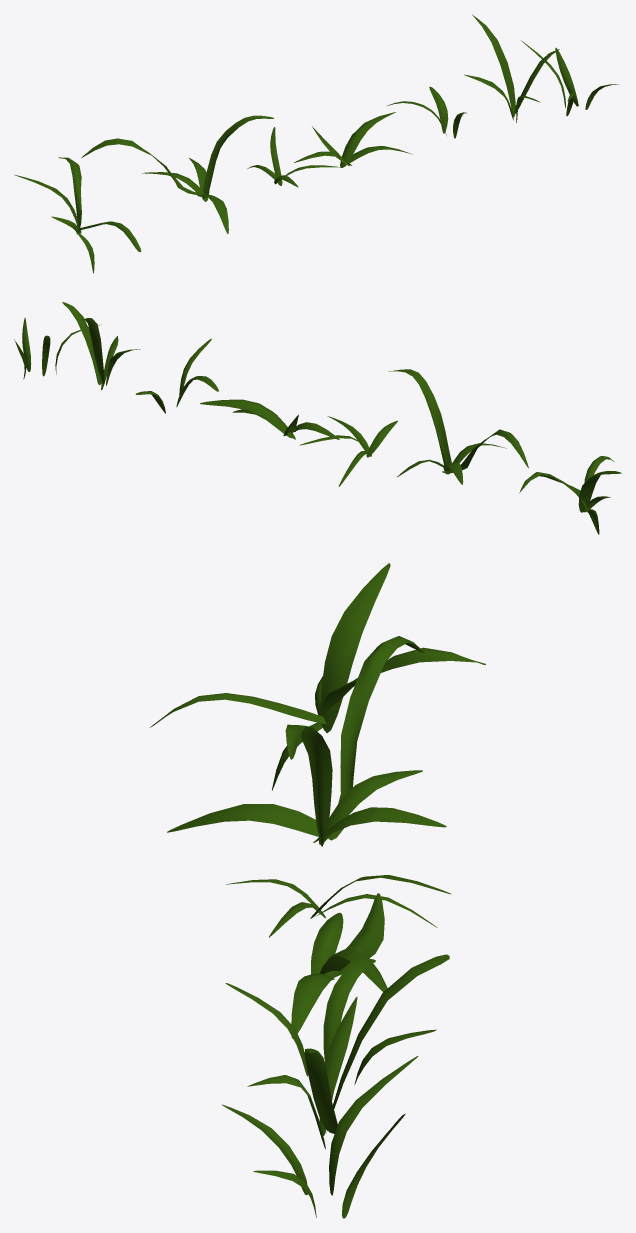
File: hojasverdes.glb
The picture shows the model from 3 angles, top to bottom: view 1: azimuth 30°, elevation 25°; view 2: azimuth 150°, elevation 25°; view 3: azimuth 270°, elevation 25°; orthographic projection. The views are drawn at different scales.
Visible parts, largest first — view 1: GEO-leaf.grass.008.4, GEO-leaf.grass.001.1, GEO-leaf_grass-long.004.6, GEO-leaf.grass.002.2, GEO-leaf_grass-long.005.7, GEO-leaf.grass.003.3, GEO-leaf_grass-long.003.5; view 2: GEO-leaf.grass.008.4, GEO-leaf_grass-long.004.6, GEO-leaf.grass.002.2, GEO-leaf.grass.001.1, GEO-leaf.grass.003.3, GEO-leaf_grass-long.005.7, GEO-leaf_grass-long.003.5; view 3: GEO-leaf.grass.008.4, GEO-leaf.grass.001.1, GEO-leaf_grass-long.004.6, GEO-leaf.grass.002.2, GEO-leaf_grass-long.005.7, GEO-leaf_grass-long.003.5, GEO-leaf.grass.003.3.
Boxes of the visible parts, x1=… form: GEO-leaf.grass.008.4: x1=81, y1=115, x2=273, y2=233; GEO-leaf.grass.001.1: x1=14, y1=157, x2=141, y2=273; GEO-leaf_grass-long.004.6: x1=464, y1=14, x2=559, y2=122; GEO-leaf.grass.002.2: x1=294, y1=112, x2=412, y2=167; GEO-leaf_grass-long.005.7: x1=521, y1=40, x2=618, y2=116; GEO-leaf.grass.003.3: x1=247, y1=127, x2=339, y2=187; GEO-leaf_grass-long.003.5: x1=387, y1=86, x2=467, y2=138; GEO-leaf.grass.008.4: x1=388, y1=369, x2=528, y2=484; GEO-leaf_grass-long.004.6: x1=62, y1=302, x2=140, y2=390; GEO-leaf.grass.002.2: x1=200, y1=399, x2=339, y2=439; GEO-leaf.grass.001.1: x1=519, y1=456, x2=621, y2=534; GEO-leaf.grass.003.3: x1=300, y1=416, x2=397, y2=486; GEO-leaf_grass-long.005.7: x1=14, y1=318, x2=101, y2=379; GEO-leaf_grass-long.003.5: x1=135, y1=338, x2=218, y2=413; GEO-leaf.grass.008.4: x1=167, y1=636, x2=446, y2=846; GEO-leaf.grass.001.1: x1=150, y1=563, x2=485, y2=790; GEO-leaf_grass-long.004.6: x1=247, y1=954, x2=449, y2=1148; GEO-leaf.grass.002.2: x1=291, y1=893, x2=387, y2=1038; GEO-leaf_grass-long.005.7: x1=222, y1=1056, x2=418, y2=1218; GEO-leaf_grass-long.003.5: x1=225, y1=959, x2=436, y2=1084; GEO-leaf.grass.003.3: x1=226, y1=875, x2=451, y2=937.
Bounding box in the file's own units: 81.53 × 16.87 × 20.7.
